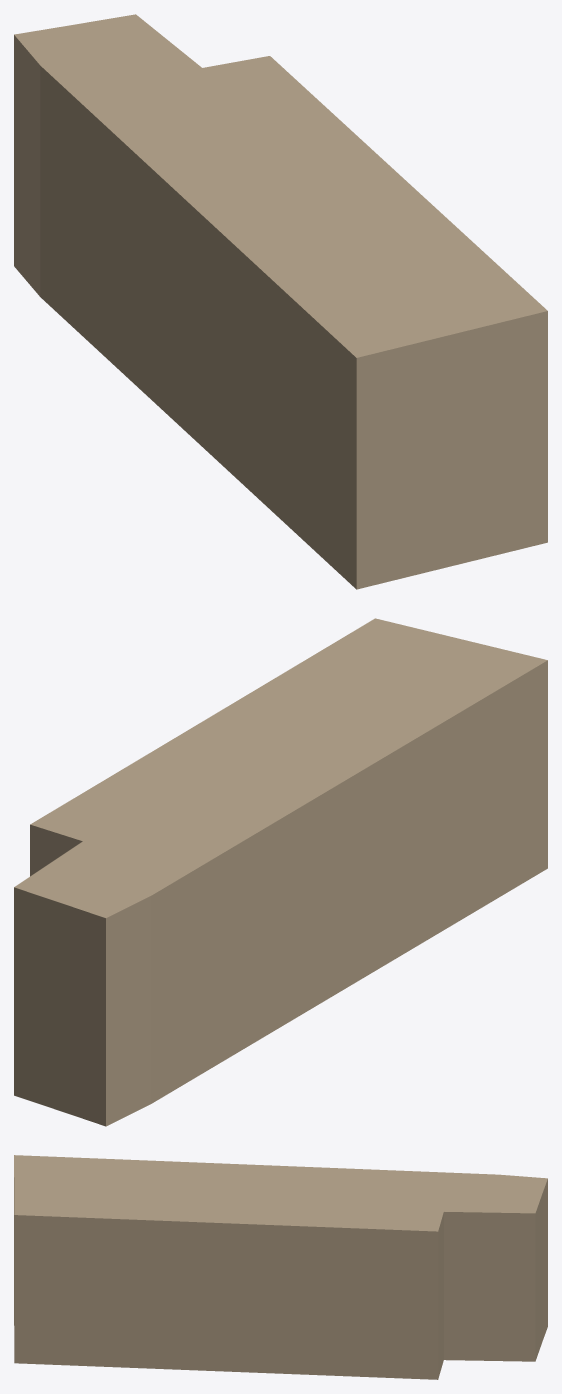
The model's file is bld_98640376.dae.
3 renders of one model, top to bottom at view 1: azimuth 30°, elevation 25°; view 2: azimuth 150°, elevation 25°; view 3: azimuth 270°, elevation 25°, orthographic. The views are drawn at different scales.
Parts seen in each view (by area): view 1: bld_98640376; view 2: bld_98640376; view 3: bld_98640376.
Boxes of the visible parts, x1,y1,x2,y2 form: bld_98640376: (14,14,547,589); bld_98640376: (14,618,547,1126); bld_98640376: (14,1155,547,1379).
Size of the model in its own units: 8.85 by 26.11 by 8.
